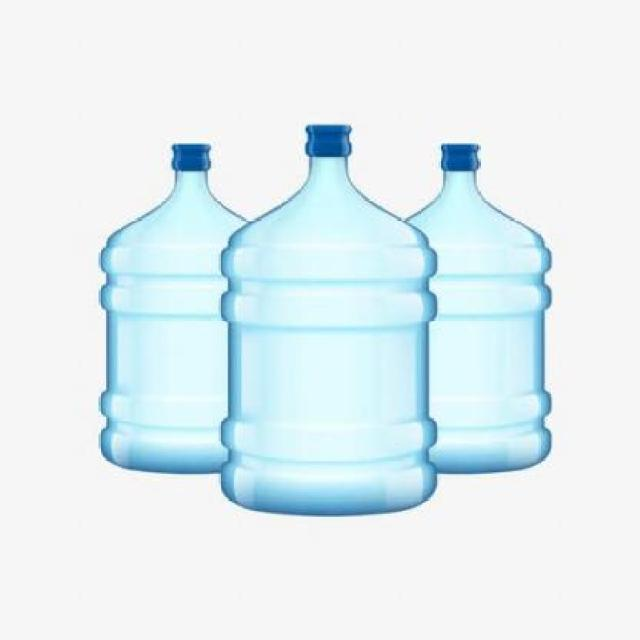coolerbottle: (217, 119, 444, 522)
